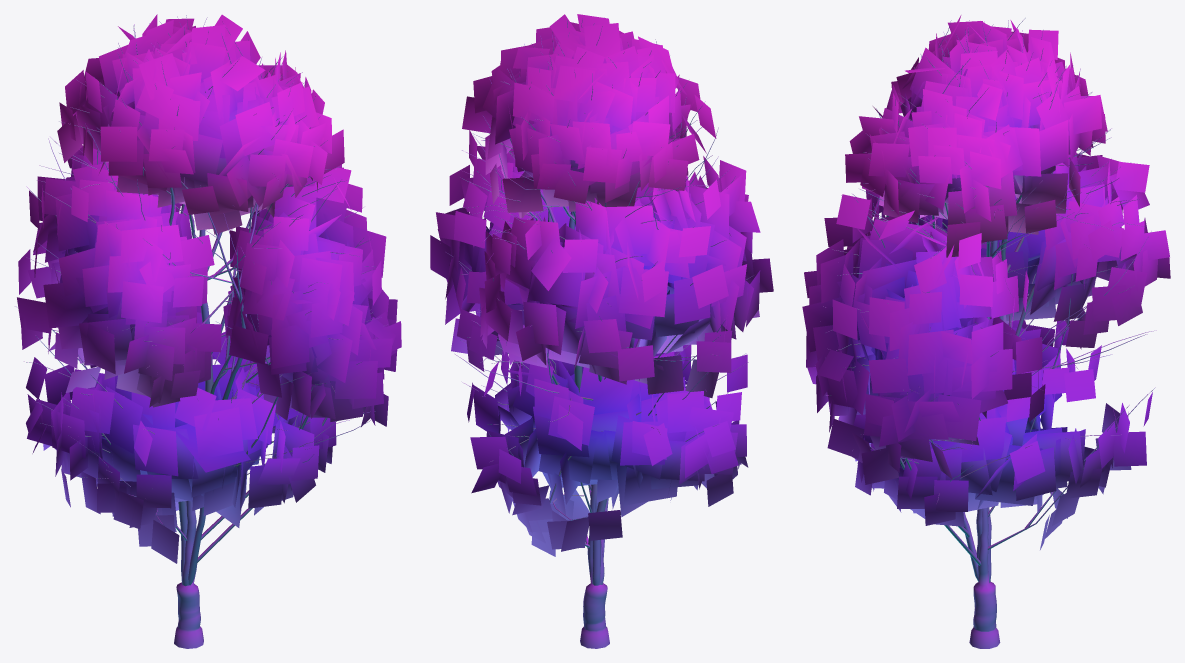
Rendered from tree_birch_s3_a30.fbx.
The picture shows the model from 3 angles, left to right: view 1: azimuth 30°, elevation 25°; view 2: azimuth 150°, elevation 25°; view 3: azimuth 270°, elevation 25°; orthographic projection.
Visible parts, largest first — view 1: tree_birch_s3_a30_leaves, tree_birch_s3_a30_branches; view 2: tree_birch_s3_a30_leaves, tree_birch_s3_a30_branches; view 3: tree_birch_s3_a30_leaves, tree_birch_s3_a30_branches.
Boxes of the visible parts, bbox=[...] form: tree_birch_s3_a30_leaves: bbox=[17, 14, 401, 563]; tree_birch_s3_a30_branches: bbox=[15, 15, 387, 648]; tree_birch_s3_a30_leaves: bbox=[430, 14, 773, 556]; tree_birch_s3_a30_branches: bbox=[446, 17, 754, 648]; tree_birch_s3_a30_leaves: bbox=[802, 15, 1170, 549]; tree_birch_s3_a30_branches: bbox=[820, 18, 1156, 648].
Bounding box in the file's own units: 6.79 × 12.36 × 6.66.
